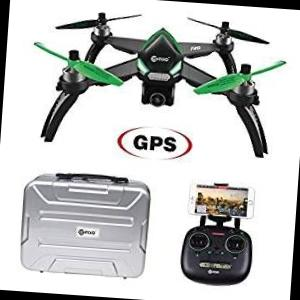drone: (22, 0, 294, 168)
